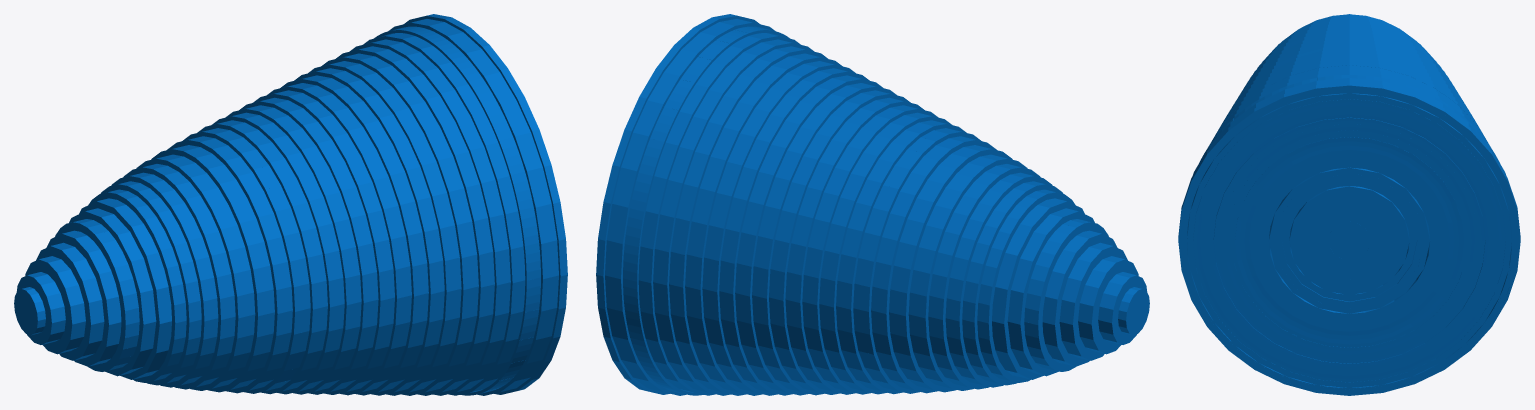
File: corteza acumulado.fbx
3 renders of one model, left to right at view 1: azimuth 30°, elevation 25°; view 2: azimuth 150°, elevation 25°; view 3: azimuth 270°, elevation 25°, orthographic. The views are drawn at different scales.
Parts seen in each view (by area): view 1: corteza_31, corteza_26, corteza_30, corteza_28, corteza_27, corteza_25, corteza_23, corteza_29, corteza_22, corteza_24, corteza_21, corteza_20 (+20 smaller); view 2: corteza_31, corteza_26, corteza_30, corteza_28, corteza_27, corteza_25, corteza_23, corteza_29, corteza_22, corteza_24, corteza_21, corteza_20 (+20 smaller); view 3: corteza_31, corteza_27, corteza_26, corteza_29, corteza_28, corteza_32, corteza_24, corteza_23, corteza_22, corteza_25, corteza_14, corteza_15 (+20 smaller).
Boxes of the visible parts, left/top/right/bottom form: corteza_31: left=389, top=19, right=558, bottom=395; corteza_26: left=321, top=53, right=478, bottom=395; corteza_30: left=374, top=26, right=540, bottom=395; corteza_28: left=350, top=39, right=510, bottom=395; corteza_27: left=336, top=46, right=494, bottom=395; corteza_25: left=308, top=61, right=461, bottom=395; corteza_23: left=280, top=75, right=428, bottom=395; corteza_29: left=363, top=33, right=525, bottom=395; corteza_22: left=266, top=83, right=411, bottom=395; corteza_24: left=294, top=68, right=444, bottom=395; corteza_21: left=253, top=90, right=394, bottom=394; corteza_20: left=239, top=97, right=378, bottom=394; corteza_31: left=605, top=19, right=775, bottom=395; corteza_26: left=685, top=53, right=842, bottom=395; corteza_30: left=623, top=26, right=789, bottom=395; corteza_28: left=653, top=39, right=813, bottom=395; corteza_27: left=669, top=46, right=827, bottom=395; corteza_25: left=702, top=61, right=855, bottom=395; corteza_23: left=735, top=75, right=882, bottom=395; corteza_29: left=638, top=33, right=800, bottom=395; corteza_22: left=752, top=83, right=897, bottom=395; corteza_24: left=719, top=68, right=869, bottom=395; corteza_21: left=769, top=90, right=910, bottom=394; corteza_20: left=785, top=97, right=924, bottom=394; corteza_31: left=1181, top=78, right=1517, bottom=393; corteza_27: left=1193, top=65, right=1505, bottom=382; corteza_26: left=1196, top=61, right=1502, bottom=379; corteza_29: left=1187, top=72, right=1511, bottom=387; corteza_28: left=1190, top=68, right=1508, bottom=385; corteza_32: left=1178, top=82, right=1520, bottom=395; corteza_24: left=1203, top=55, right=1495, bottom=373; corteza_23: left=1206, top=52, right=1492, bottom=370; corteza_22: left=1210, top=48, right=1488, bottom=367; corteza_25: left=1200, top=58, right=1499, bottom=376; corteza_14: left=1239, top=22, right=1459, bottom=340; corteza_15: left=1235, top=26, right=1463, bottom=344.
Size of the model in its own units: 13.06 by 9.87 by 9.87.
